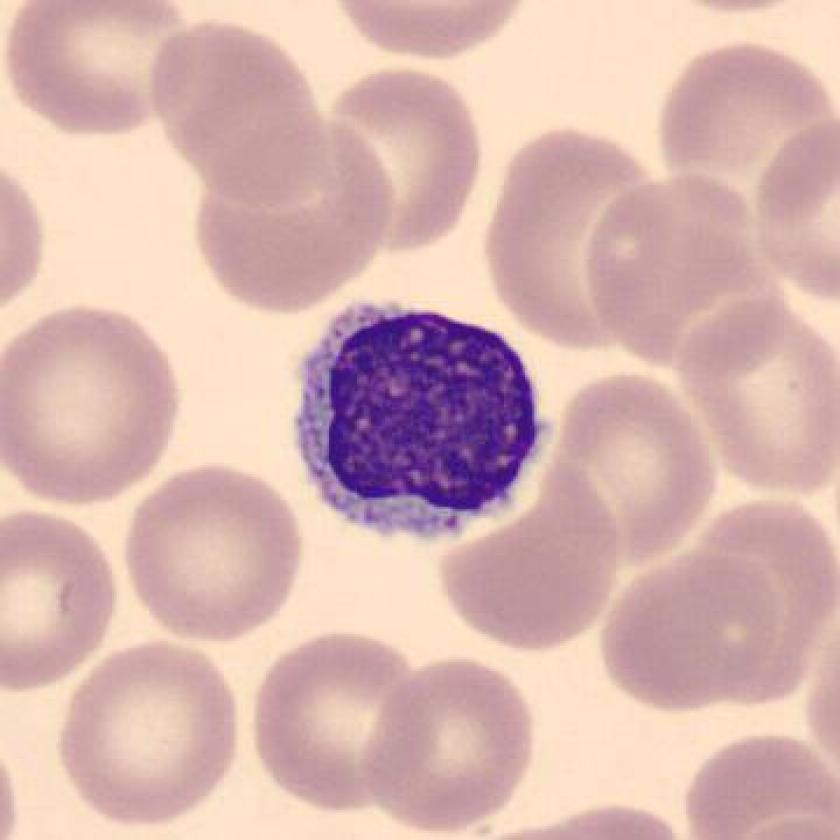lymphocyte: (277, 281, 557, 563)
